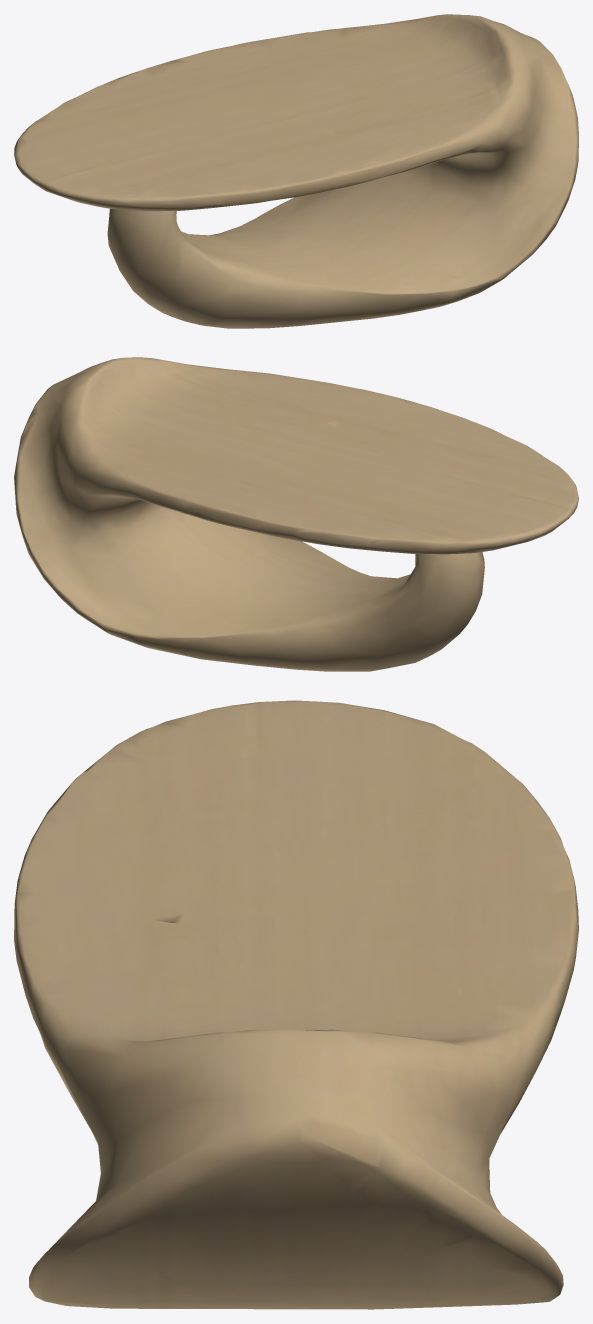
Rendered from coffee-table-pale-wood-sculptural-15k.glb.
The picture shows the model from 3 angles, top to bottom: view 1: azimuth 30°, elevation 25°; view 2: azimuth 150°, elevation 25°; view 3: azimuth 270°, elevation 25°; orthographic projection. The views are drawn at different scales.
Visible parts, largest first — view 1: world; view 2: world; view 3: world.
Boxes of the visible parts, x1,y1,x2,y2 form: world: [14, 14, 578, 328]; world: [14, 357, 578, 671]; world: [14, 700, 578, 1309].
Bounding box in the file's own units: 1 × 0.4332 × 0.5437.
1 material, 1 textured.
